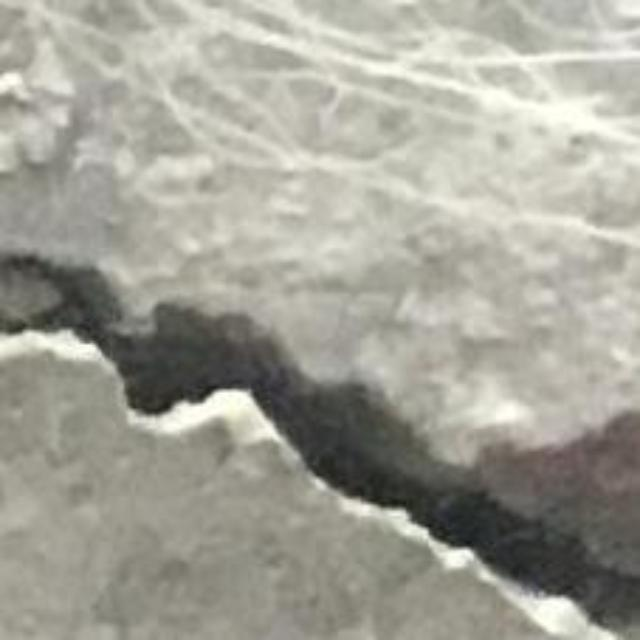crack: (0, 257, 639, 634)
